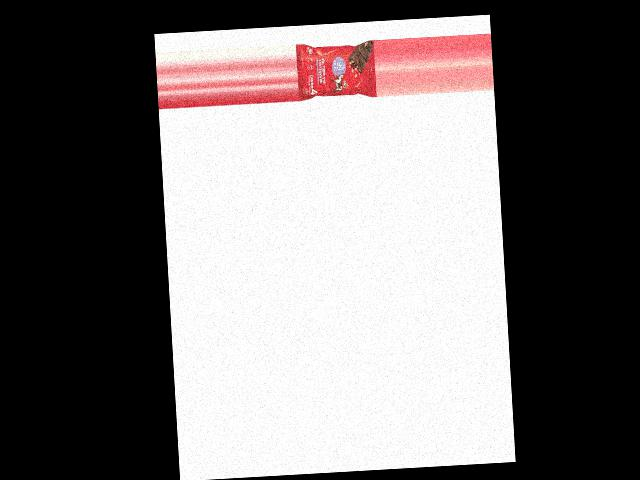chocolate: (295, 39, 376, 99)
